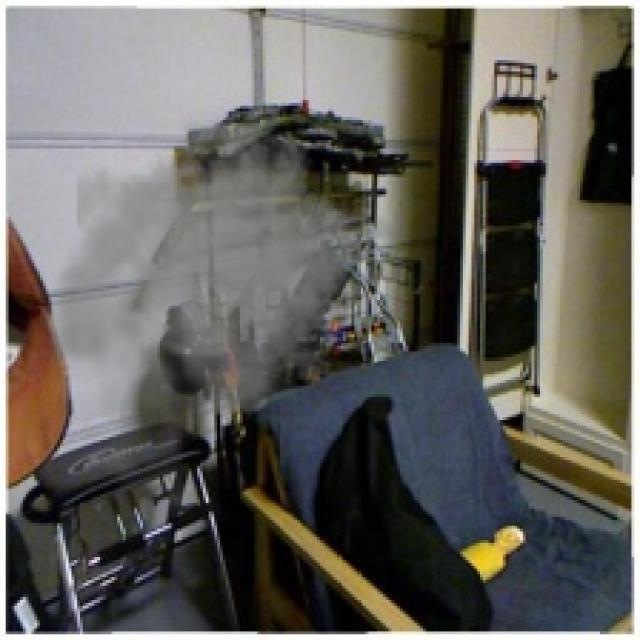Smoke: (34, 108, 377, 526)
